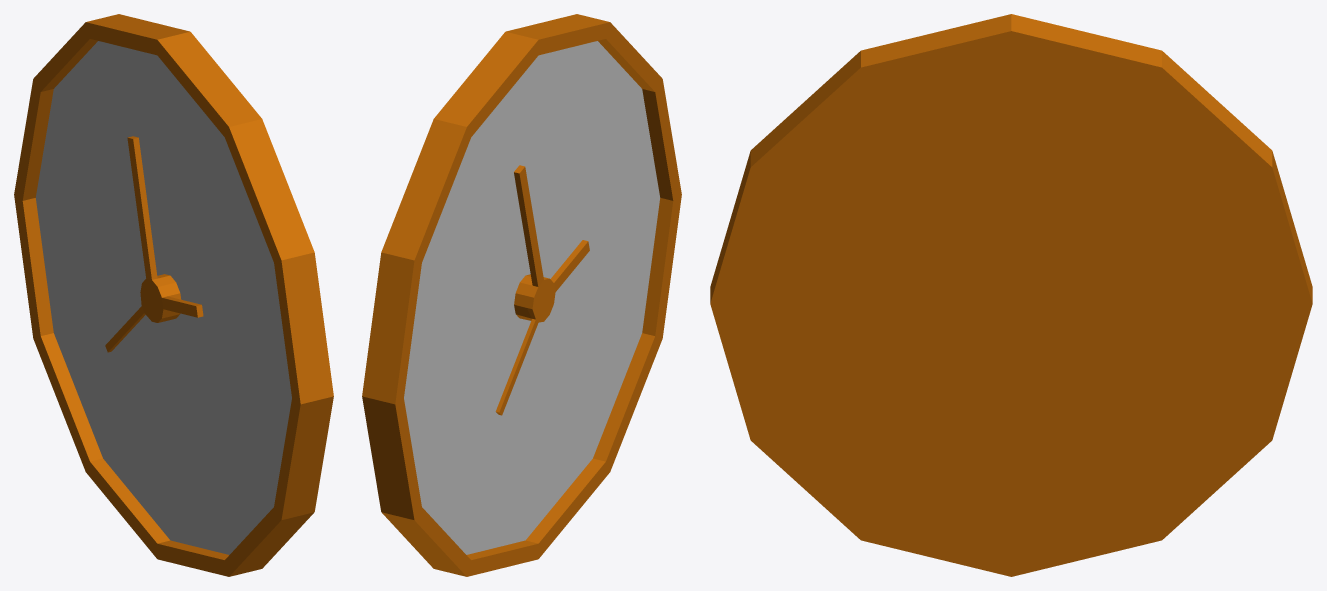
Rendered from Clock.obj.
The picture shows the model from 3 angles, left to right: view 1: azimuth 30°, elevation 25°; view 2: azimuth 150°, elevation 25°; view 3: azimuth 270°, elevation 25°; orthographic projection. The views are drawn at different scales.
Visible parts, largest first — view 1: Relogio; view 2: Relogio; view 3: Relogio.
Boxes of the visible parts, x1,y1,x2,y2 form: Relogio: [14, 14, 333, 576]; Relogio: [362, 14, 681, 576]; Relogio: [710, 14, 1312, 576].
Bounding box in the file's own units: 0.1426 × 1.78 × 1.78.
